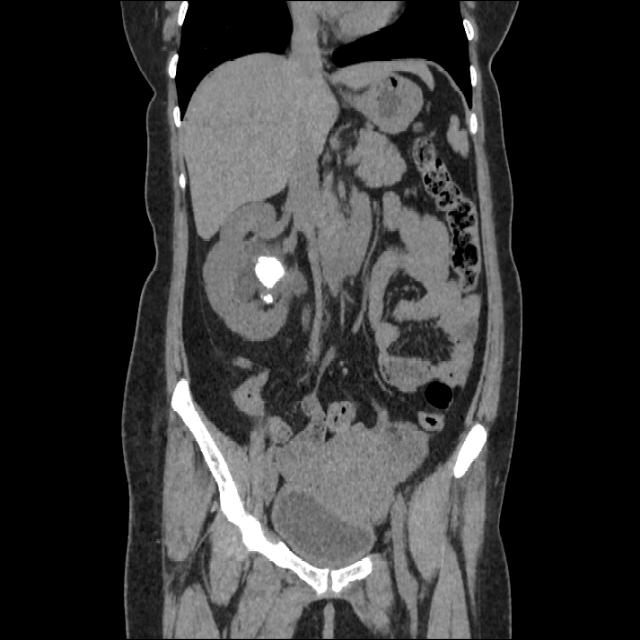kidney: (206, 201, 304, 340)
stone: (255, 255, 283, 288), (263, 295, 276, 303)
